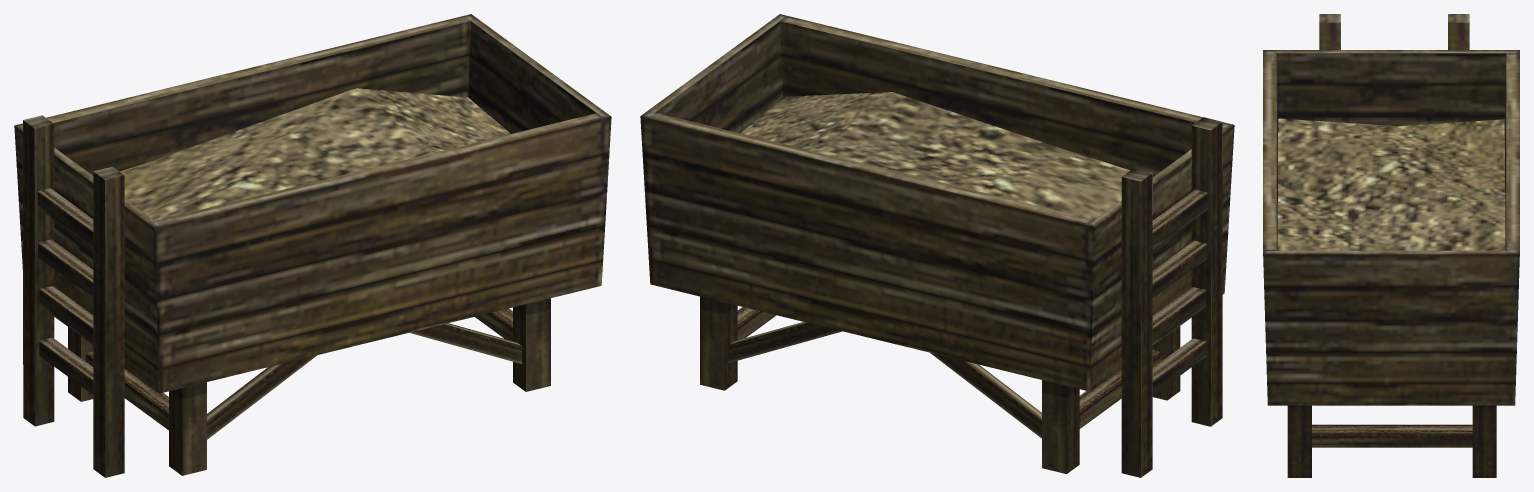
Rendered from general_obj_woodbox.fbx.
3 renders of one model, left to right at view 1: azimuth 30°, elevation 25°; view 2: azimuth 150°, elevation 25°; view 3: azimuth 270°, elevation 25°, orthographic. The views are drawn at different scales.
Parts seen in each view (by area): view 1: Object02; view 2: Object02; view 3: Object02.
Boxes of the visible parts, x1,y1,x2,y2 form: Object02: [14, 14, 611, 477]; Object02: [640, 14, 1234, 477]; Object02: [1263, 14, 1519, 477].
Size of the model in its own units: 2.36 by 1.41 by 1.21.
